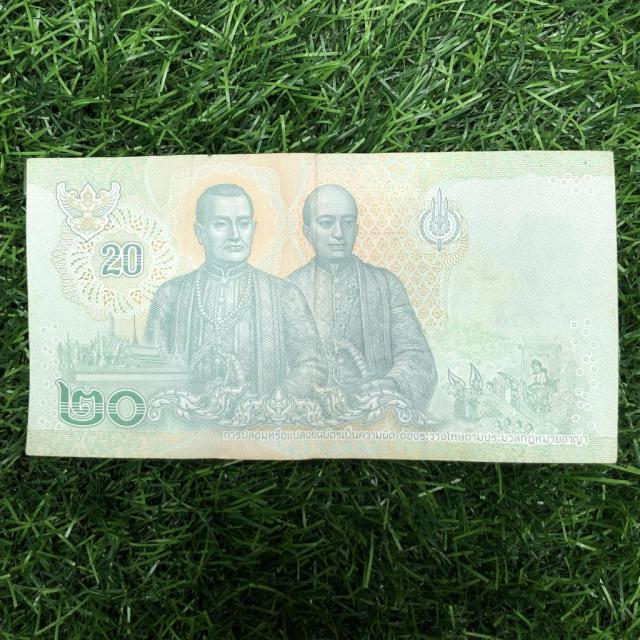THAI20: (26, 152, 618, 463)
